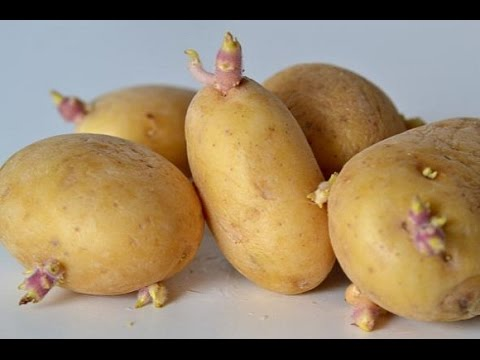potato: (179, 31, 343, 304)
